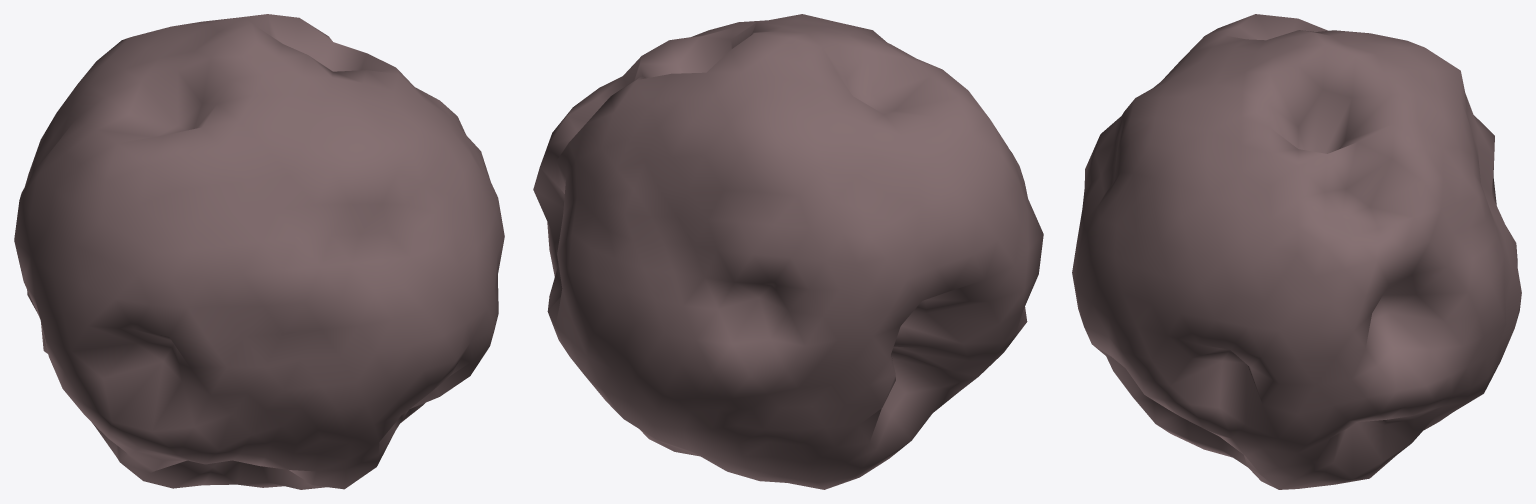
Rendered from asteroid_25.glb.
The picture shows the model from 3 angles, left to right: view 1: azimuth 30°, elevation 25°; view 2: azimuth 150°, elevation 25°; view 3: azimuth 270°, elevation 25°; orthographic projection. The views are drawn at different scales.
Parts seen in each view (by area): view 1: Asteroid_25; view 2: Asteroid_25; view 3: Asteroid_25.
Part boxes in pixels (bbox=[...]): Asteroid_25: bbox=[14, 14, 504, 489]; Asteroid_25: bbox=[533, 14, 1043, 489]; Asteroid_25: bbox=[1072, 14, 1521, 489].
Size of the model in its own units: 2.2 by 2.07 by 2.
